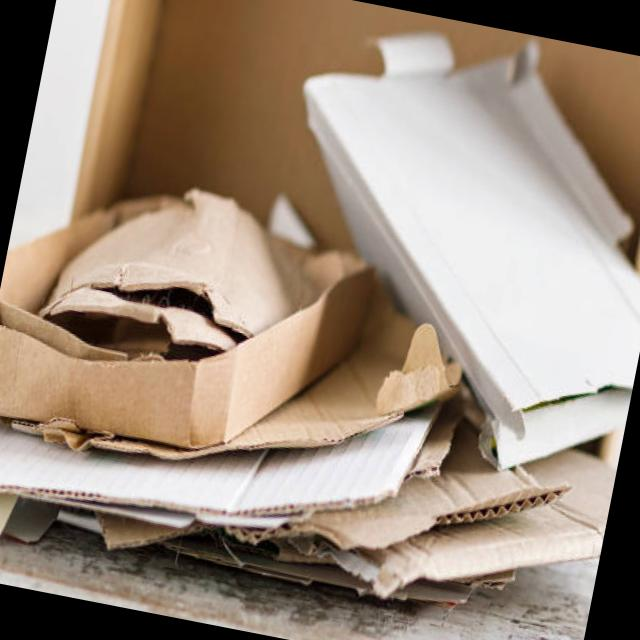electronic: (0, 0, 640, 640), (236, 0, 640, 493), (0, 150, 485, 519), (0, 311, 449, 616), (33, 160, 320, 383), (364, 18, 460, 89)
